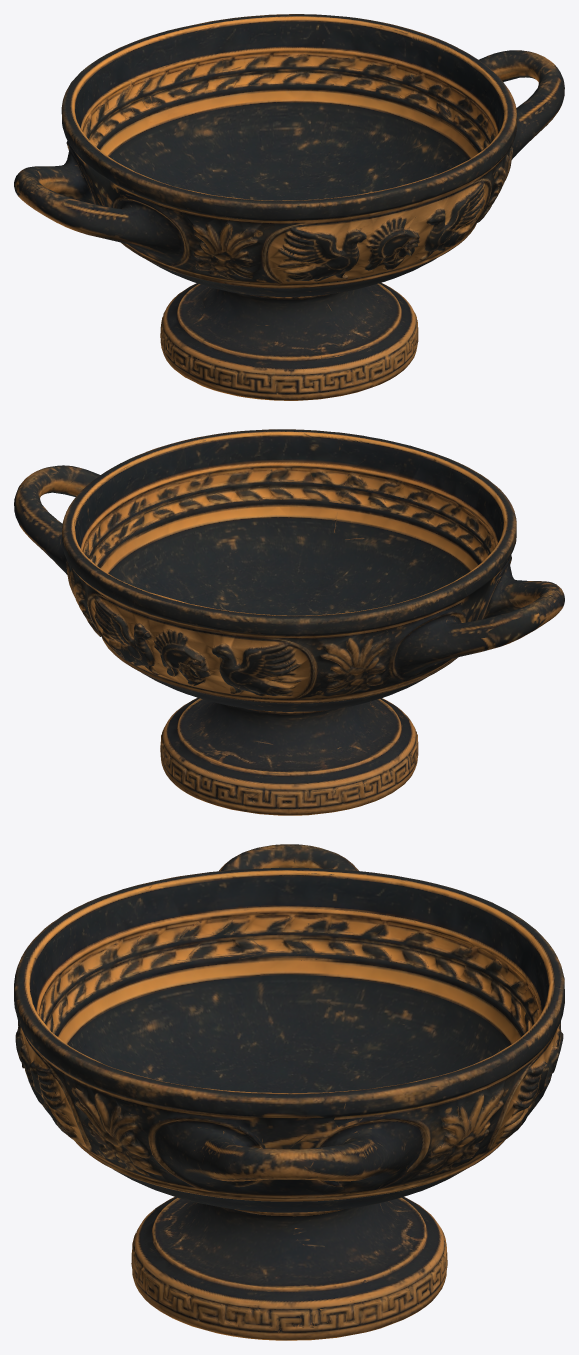
Rendered from WF_GreekRelics_CeremonialKylix.fbx.
3 views of the same model, one above another, from view 1: azimuth 30°, elevation 25°; view 2: azimuth 150°, elevation 25°; view 3: azimuth 270°, elevation 25° (orthographic). The views are drawn at different scales.
Visible parts, largest first — view 1: Mesh1.0; view 2: Mesh1.0; view 3: Mesh1.0.
Boxes of the visible parts, left/top/right/bottom form: Mesh1.0: left=14, top=14, right=564, bottom=400; Mesh1.0: left=14, top=429, right=564, bottom=815; Mesh1.0: left=14, top=844, right=564, bottom=1340.
Bounding box in the file's own units: 191 × 83.08 × 141.
Materials: 1 (1 with a texture image).
